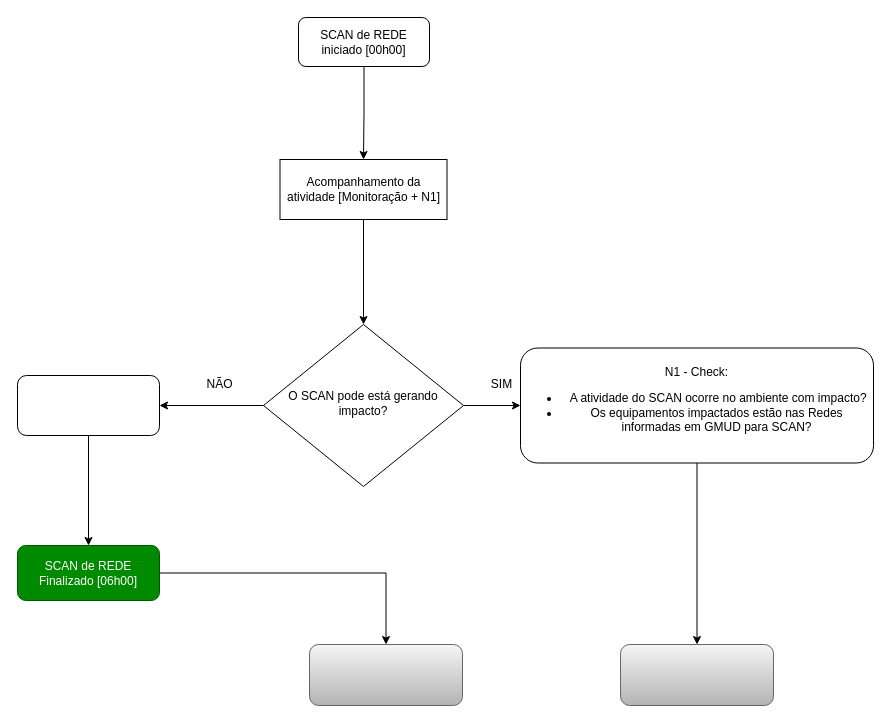
Some shapes in this 891 by 723 pixel diagram are drawn without their labels. The centre of each missing label's shape, as x and y in pixels:
"Acionar N2 para Solicitar o STOP do SCAN" goes at (697,675).
"GMUD Concluída com Sucesso," goes at (385,675).
"O Impacto não ocorre no ambiente em GMUD" goes at (88,405).
